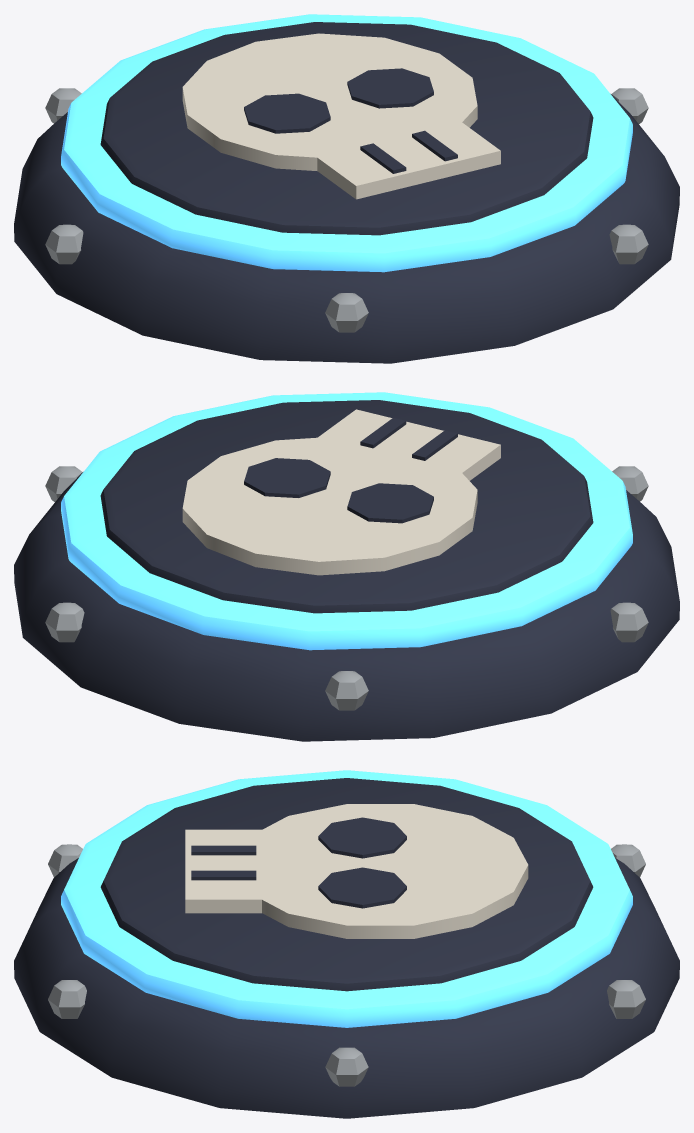
File: Mine.fbx
The picture shows the model from 3 angles, top to bottom: view 1: azimuth 30°, elevation 25°; view 2: azimuth 150°, elevation 25°; view 3: azimuth 270°, elevation 25°; orthographic projection.
Parts seen in each view (by area): view 1: Mine; view 2: Mine; view 3: Mine.
Part boxes in pixels (bbox=[...]): Mine: bbox=[14, 14, 679, 363]; Mine: bbox=[14, 392, 679, 741]; Mine: bbox=[14, 770, 679, 1118].
Size of the model in its own units: 0.6881 by 0.139 by 0.6756.
